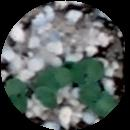Basil: (84, 86, 113, 115), (67, 60, 105, 82), (5, 80, 27, 110), (38, 75, 57, 105)
